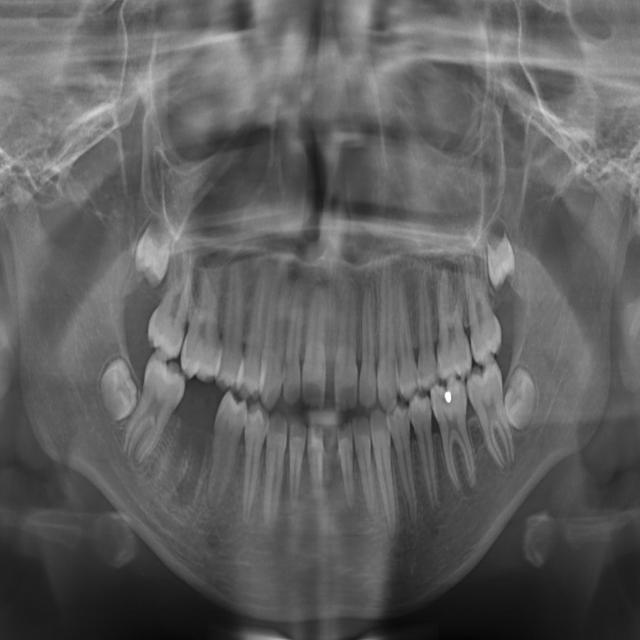3M ESPE Implant: (130, 214, 174, 290)
AGS Medikal Implant: (354, 284, 376, 408)
AMerOss Implant: (371, 252, 400, 409)
Amalgam filling: (395, 278, 419, 401)
Anthogyr Implant: (410, 270, 439, 392)
Bicon Implant: (427, 261, 474, 383)
BioHorizons Implant: (457, 240, 507, 367)
BioLife Implant: (480, 219, 521, 293)
Biomet 3i Implant: (497, 363, 543, 433)
Blue Sky Bio Implant: (508, 462, 508, 463)
Camlog Implant: (428, 375, 481, 495)
Caries: (141, 234, 205, 359)
Composite filling: (407, 389, 446, 518)
Cowellmedi Implant: (385, 399, 426, 531)
Crown: (368, 406, 403, 541)
DENTSPLY Implant: (352, 413, 377, 524)
Dentatus Implant: (336, 419, 359, 509)
Dentis Implant: (307, 425, 323, 495)
Dentium Implant: (283, 421, 307, 513)
Euroteknika Implant: (259, 408, 289, 532)
Filling: (226, 398, 271, 528)
Frontier Implant: (197, 391, 249, 516)
Hiossen Implant: (176, 256, 237, 385)
Implant: (114, 349, 194, 475)
Keystone Dental Implant: (91, 354, 144, 424)
MIS Implant: (215, 254, 256, 394)
Mandible: (239, 255, 277, 401)
Maxilla: (260, 257, 294, 412)
Megagen Implant: (282, 280, 304, 406)
Neodent Implant: (300, 281, 329, 409)
Neoss Implant: (332, 284, 359, 412)
